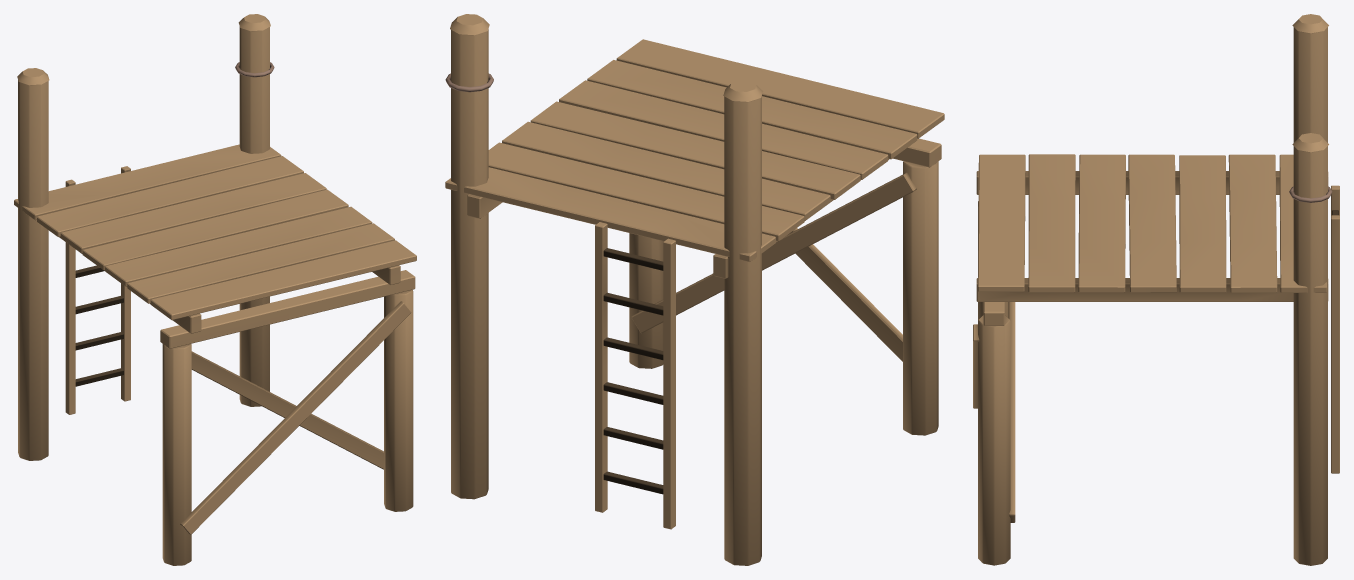
The model's file is jetty_end.glb.
The picture shows the model from 3 angles, left to right: view 1: azimuth 30°, elevation 25°; view 2: azimuth 150°, elevation 25°; view 3: azimuth 270°, elevation 25°; orthographic projection. The views are drawn at different scales.
Visible parts, largest first — view 1: PART; view 2: PART; view 3: PART.
Part boxes in pixels (x1,y1,x2,y2): PART: [14, 14, 416, 565]; PART: [445, 14, 944, 565]; PART: [973, 14, 1339, 565].
Bounding box in the file's own units: 1.83 × 2.64 × 2.08.
